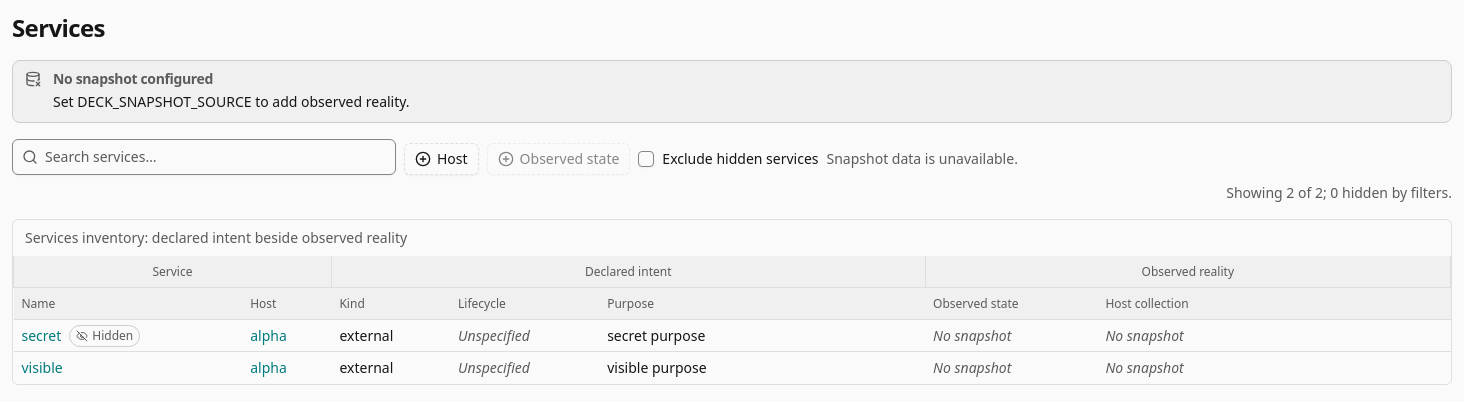
Scenario: Services search and filters › excludes hidden services without inferring hidden state from the host
The image size is (1464, 402).
Click the checkbox named "Exclude hidden services" at (646, 159), box [638, 151, 654, 167]
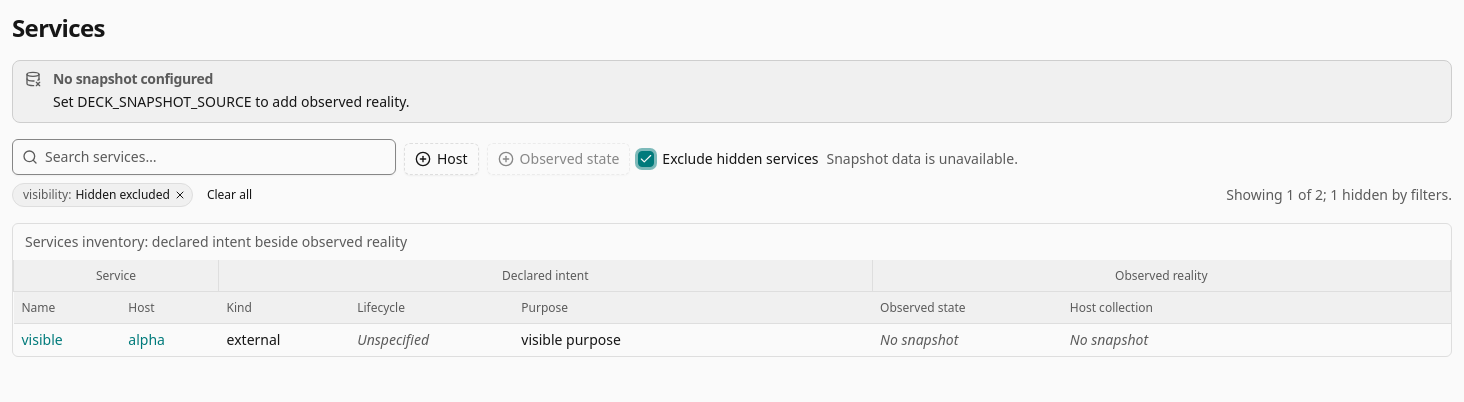
Expected: the link "visible" is shown, [22, 330, 63, 350]
Expected: the text "Showing 1 of 2; 1 hidden by filters." is shown, [1226, 185, 1452, 205]
Expected: the link "secret" is gone
